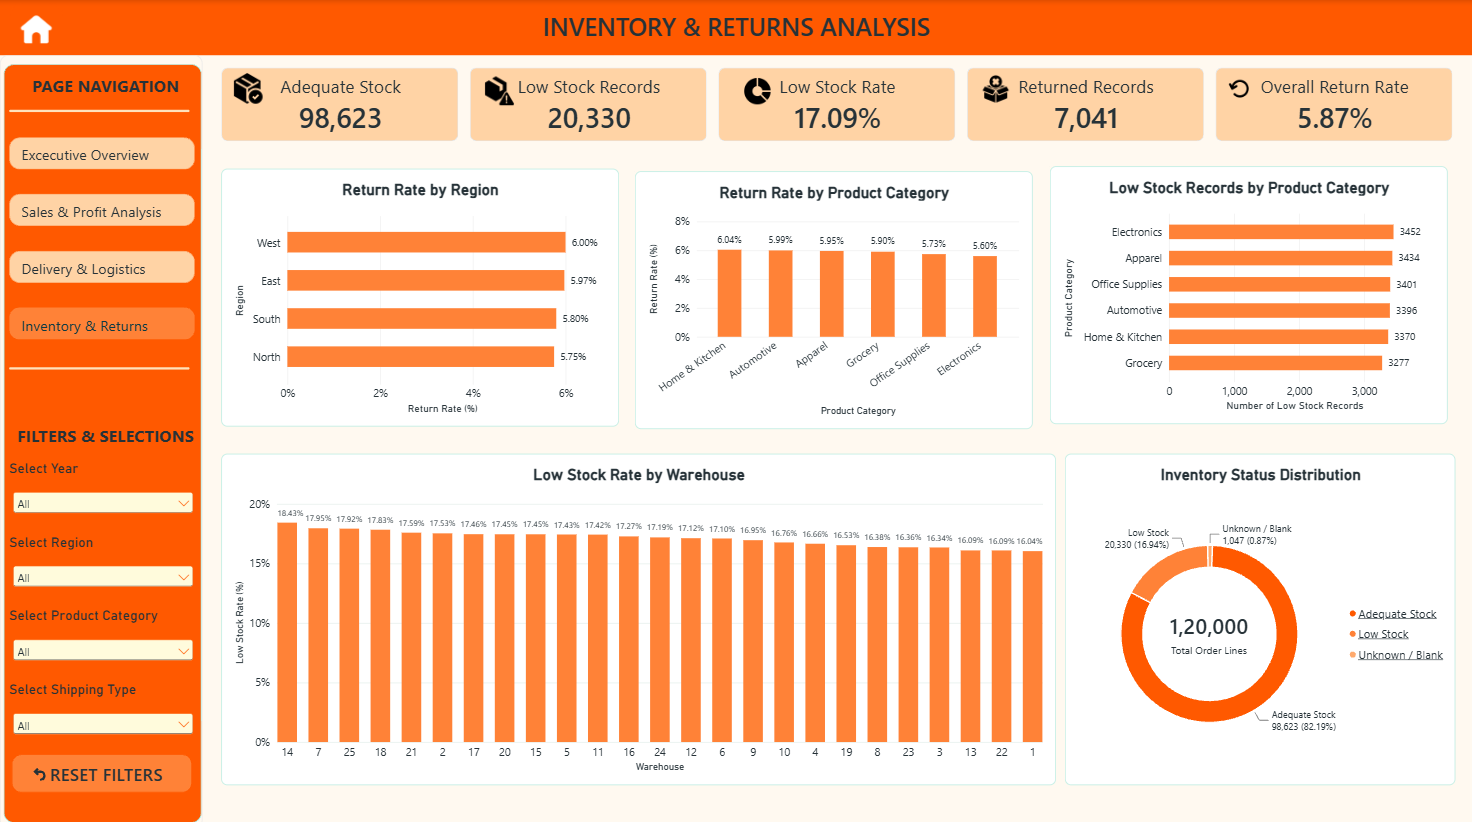

This screenshot's page, from the dashboard's own definition file:
{"tool":"powerbi","page":{"name":"Inventory & Returns","canvas":[1920,1080],"ordinal":4},"visuals":[{"type":"shape","box":[0,0,1920,72],"z":0},{"type":"textbox","box":[0,0,1920,96],"z":1000},{"type":"cardVisual","fields":{"Data":["_Measures.Adequate Stock Records","_Measures.Low Stock Records","_Measures.Low Stock Rate","_Measures.Total Returned Records","_Measures.Overall Return Rate"]},"box":[288,88,1608,96],"z":2000},{"type":"shape","box":[0,72,264,1008],"z":3000},{"type":"slicer","title":"Select Year ","fields":{"Values":["Supply_Chain.Order_Date.Variation.Date Hierarchy.Year"]},"box":[0,600,264,72],"z":4000},{"type":"slicer","title":"Select Region","fields":{"Values":["Supply_Chain.Region"]},"box":[0,696,264,72],"z":5000},{"type":"slicer","title":"Select Product Category","fields":{"Values":["Supply_Chain.Product_Category"]},"box":[0,792,264,72],"z":6000},{"type":"slicer","title":"Select Shipping Type","fields":{"Values":["Supply_Chain.Shipping_Type"]},"box":[0,888,264,72],"z":7000},{"type":"pageNavigator","box":[0,168,264,288],"z":8000},{"type":"textbox","box":[0,96,264,72],"z":9000},{"type":"shape","box":[0,120,256,32],"z":10000},{"type":"shape","box":[0,456,256,32],"z":11000},{"type":"textbox","box":[0,552,264,72],"z":12000},{"type":"actionButton","box":[4,976,256,64],"z":13000},{"type":"clusteredColumnChart","title":"Return Rate by Product Category","fields":{"Category":["Supply_Chain.Product_Category"],"Y":["_Measures.Return Rate"]},"box":[828,224,518,336],"z":14000},{"type":"clusteredBarChart","title":"Low Stock Records by Product Category","fields":{"Category":["Supply_Chain.Product_Category"],"Y":["CountNonNull(Supply_Chain.Order_Line_ID)"]},"box":[1368,216,518,336],"z":15000},{"type":"clusteredColumnChart","title":"Low Stock Rate by Warehouse","fields":{"Category":["Supply_Chain.Warehouse_ID"],"Y":["_Measures.Low Stock Rate"]},"box":[288,592,1088,432],"z":16000},{"type":"donutChart","title":"Inventory Status Distribution","fields":{"Category":["Supply_Chain.Inventory Status Display"],"Y":["CountNonNull(Supply_Chain.Order_Line_ID)"]},"box":[1389,592,509,432],"z":17000},{"type":"clusteredBarChart","title":"Return Rate by Region","fields":{"Category":["Supply_Chain.Region"],"Y":["_Measures.Return Rate"]},"box":[288,220,518,336],"z":18000},{"type":"actionButton","box":[0,0,95,70],"z":19000},{"type":"image","box":[1589,88.3,55,55],"z":20000},{"type":"image","box":[1262.1,88.3,55,55],"z":21000},{"type":"image","box":[959.1,90.7,55,55],"z":22000},{"type":"image","box":[615.6,90.7,55,55],"z":23000},{"type":"image","box":[288.7,88.3,55,55],"z":24000}]}

Visuals, with their boxes in screenshot pixels (x1, y1, x2, y2), scaled from the page's 1920x1080 canvas onto the 1472x822 screenshot:
shape: region(0, 0, 1471, 55)
textbox: region(0, 0, 1471, 73)
cardVisual - _Measures.Adequate Stock Records x _Measures.Low Stock Records: region(221, 67, 1454, 140)
shape: region(0, 55, 202, 821)
"Select Year " slicer: region(0, 457, 202, 511)
"Select Region" slicer: region(0, 530, 202, 585)
"Select Product Category" slicer: region(0, 603, 202, 658)
"Select Shipping Type" slicer: region(0, 676, 202, 731)
pageNavigator: region(0, 128, 202, 347)
textbox: region(0, 73, 202, 128)
shape: region(0, 91, 196, 116)
shape: region(0, 347, 196, 371)
textbox: region(0, 420, 202, 475)
actionButton: region(3, 743, 199, 792)
"Return Rate by Product Category" clusteredColumnChart: region(635, 170, 1032, 426)
"Low Stock Records by Product Category" clusteredBarChart: region(1049, 164, 1446, 420)
"Low Stock Rate by Warehouse" clusteredColumnChart: region(221, 451, 1055, 779)
"Inventory Status Distribution" donutChart: region(1065, 451, 1455, 779)
"Return Rate by Region" clusteredBarChart: region(221, 167, 618, 423)
actionButton: region(0, 0, 73, 53)
image: region(1218, 67, 1260, 109)
image: region(968, 67, 1010, 109)
image: region(735, 69, 777, 111)
image: region(472, 69, 514, 111)
image: region(221, 67, 264, 109)
